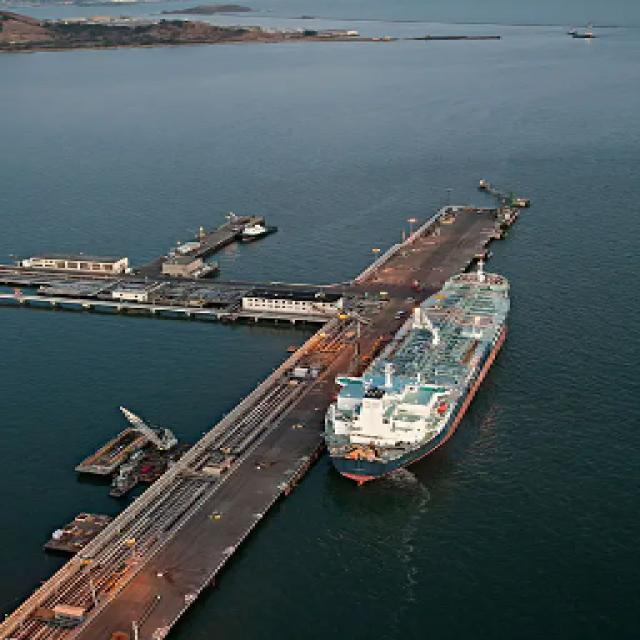cargoship: (336, 256, 518, 478)
